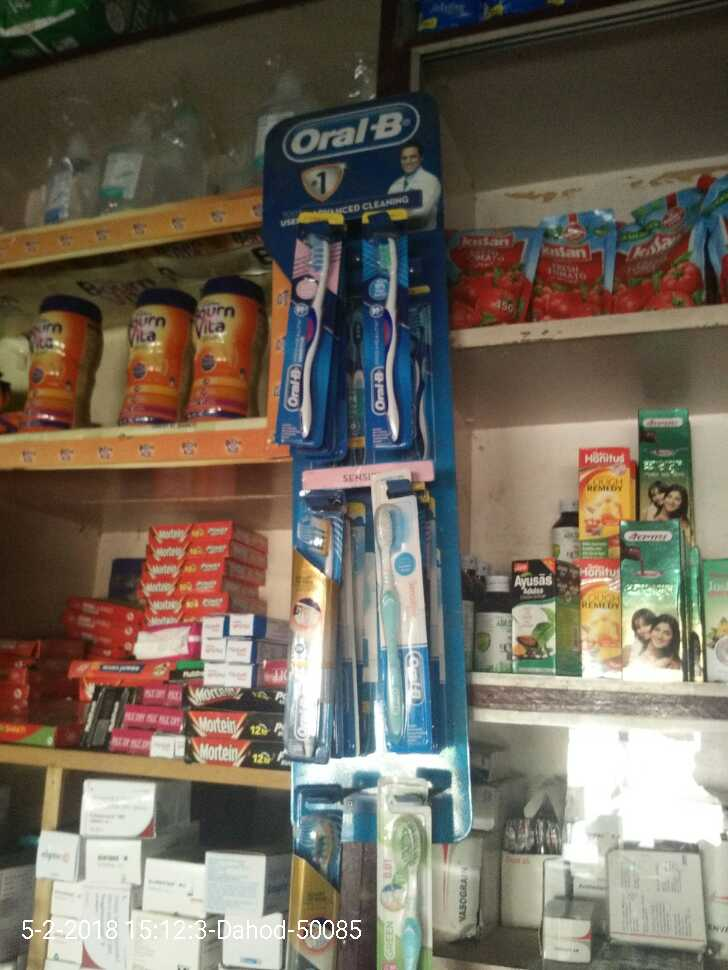oralb: (363, 494, 420, 767), (356, 224, 418, 459), (282, 240, 336, 451)
